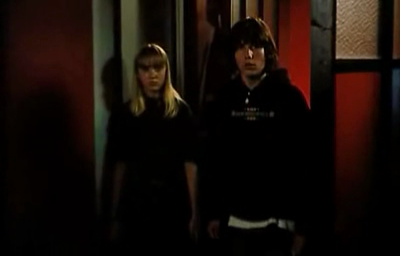face: (235, 38, 265, 75), (140, 61, 166, 90)
ms: (1, 1, 400, 256)
person: (193, 16, 323, 256), (100, 43, 198, 256)
